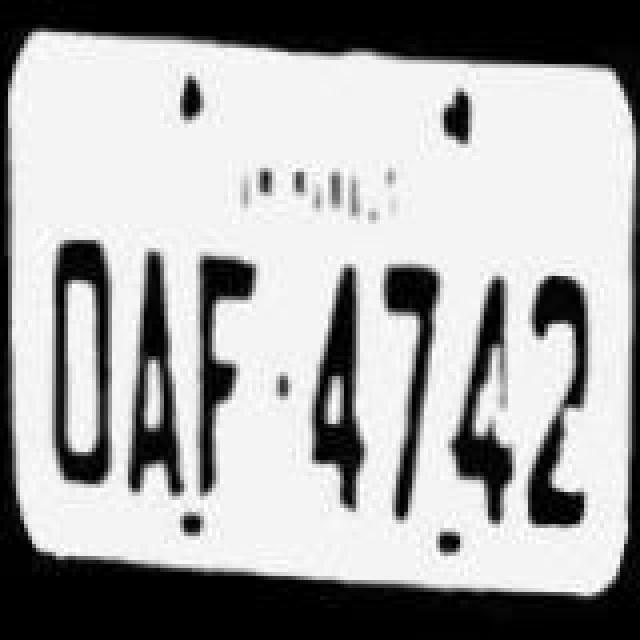2: (520, 248, 600, 540)
4: (304, 242, 384, 526), (446, 228, 518, 524)
7: (374, 236, 446, 528)
A: (124, 228, 192, 508)
F: (196, 226, 272, 510)
O: (36, 218, 128, 510)
